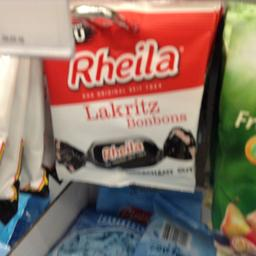candy: (44, 2, 210, 186)
